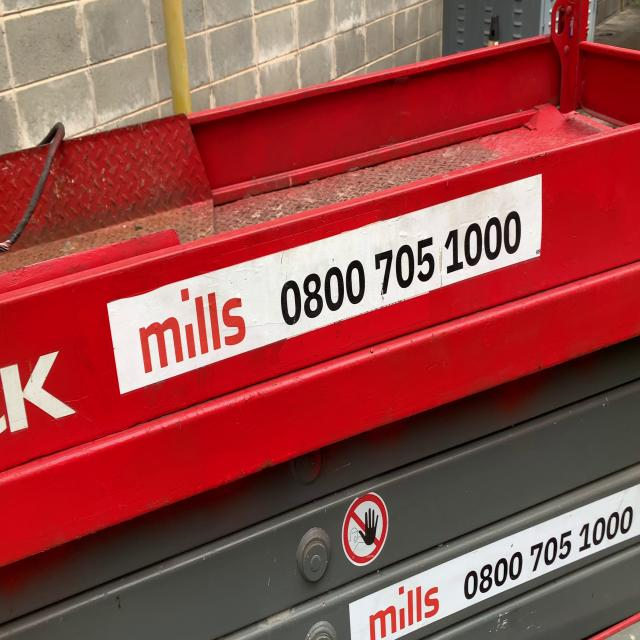Adesivo Longo: (105, 166, 547, 402), (348, 480, 640, 640)
